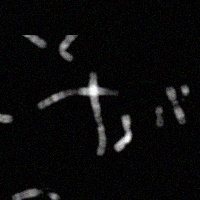chromosome: (38, 86, 118, 109), (89, 72, 106, 155), (166, 85, 186, 123), (113, 114, 132, 151), (59, 33, 78, 61), (12, 188, 44, 200), (0, 100, 13, 123), (155, 107, 164, 126), (47, 192, 62, 200), (181, 84, 190, 95)
